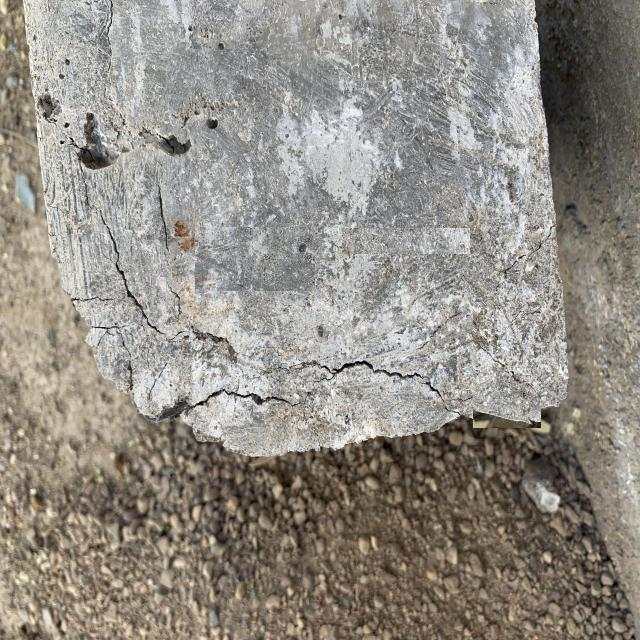diagonal crack: (93, 205, 165, 342), (169, 313, 244, 358)
horizontal crack: (276, 353, 502, 396), (165, 382, 323, 424), (66, 289, 128, 313)
vertical crack: (148, 175, 198, 330)
